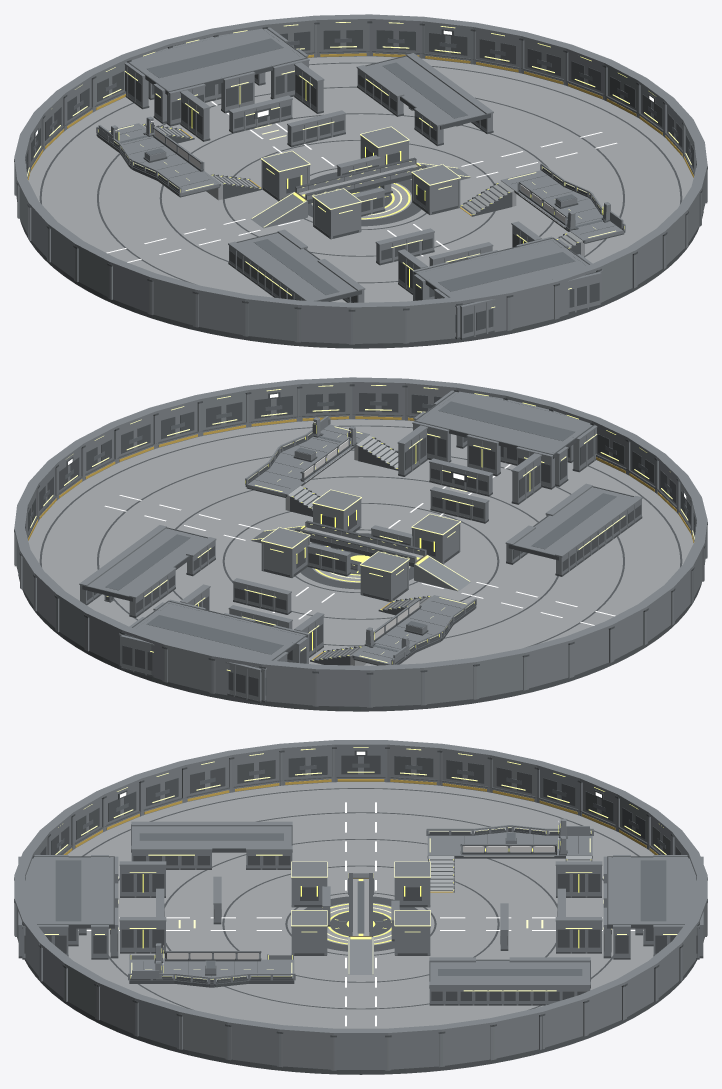
File: concourse_v2_environment.glb
3 views of the same model, one above another, from view 1: azimuth 30°, elevation 25°; view 2: azimuth 150°, elevation 25°; view 3: azimuth 270°, elevation 25° (orthographic).
Visible parts, largest first — view 1: STRUCT_Gunmetal, FLOOR_Concourse, SYSTEMS_DarkSteel, GRATE_Vent, LIGHT_Amber, HAZARD_Stripe, LIGHT_White, GLASS_Ballistic; view 2: STRUCT_Gunmetal, FLOOR_Concourse, SYSTEMS_DarkSteel, GRATE_Vent, LIGHT_Amber, HAZARD_Stripe, LIGHT_White, GLASS_Ballistic; view 3: STRUCT_Gunmetal, FLOOR_Concourse, SYSTEMS_DarkSteel, GRATE_Vent, LIGHT_Amber, HAZARD_Stripe, GLASS_Ballistic, LIGHT_White.
Part boxes in pixels (box(x1,y1,x2,y2)): STRUCT_Gunmetal: box(14, 14, 707, 344); FLOOR_Concourse: box(28, 56, 693, 302); SYSTEMS_DarkSteel: box(14, 21, 707, 348); GRATE_Vent: box(26, 38, 691, 294); LIGHT_Amber: box(27, 22, 691, 308); HAZARD_Stripe: box(27, 53, 693, 215); LIGHT_White: box(35, 30, 653, 262); GLASS_Ballistic: box(154, 130, 565, 222); STRUCT_Gunmetal: box(14, 377, 707, 707); FLOOR_Concourse: box(28, 419, 693, 665); SYSTEMS_DarkSteel: box(14, 384, 707, 711); GRATE_Vent: box(30, 401, 695, 654); LIGHT_Amber: box(30, 385, 694, 671); HAZARD_Stripe: box(28, 416, 694, 659); LIGHT_White: box(68, 393, 686, 625); GLASS_Ballistic: box(304, 440, 419, 639); STRUCT_Gunmetal: box(14, 740, 707, 1070); FLOOR_Concourse: box(67, 782, 654, 1028); SYSTEMS_DarkSteel: box(14, 747, 707, 1074); GRATE_Vent: box(55, 763, 666, 975); LIGHT_Amber: box(44, 747, 677, 991); HAZARD_Stripe: box(64, 779, 657, 936); GLASS_Ballistic: box(167, 846, 554, 959); LIGHT_White: box(78, 751, 643, 1026).
Bounding box in the file's own units: 121 × 8.23 × 121.
